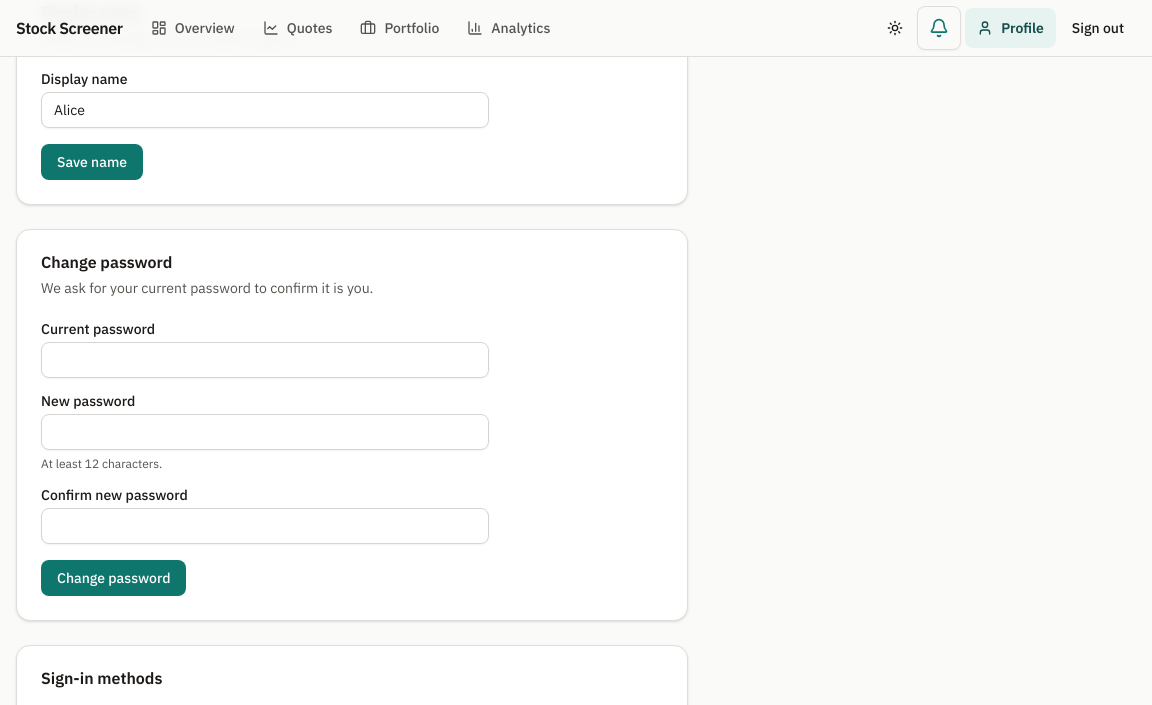
Test case: Security: password branch › shows the error when the current password is wrong
(page scrolled)
expect the password field labelled "New password" is shown: met, box top-left (41, 414), bottom-right (489, 450)
Type "wrong" into the password field labelled "Current password" at (265, 360), box top-left (41, 342), bottom-right (489, 378)
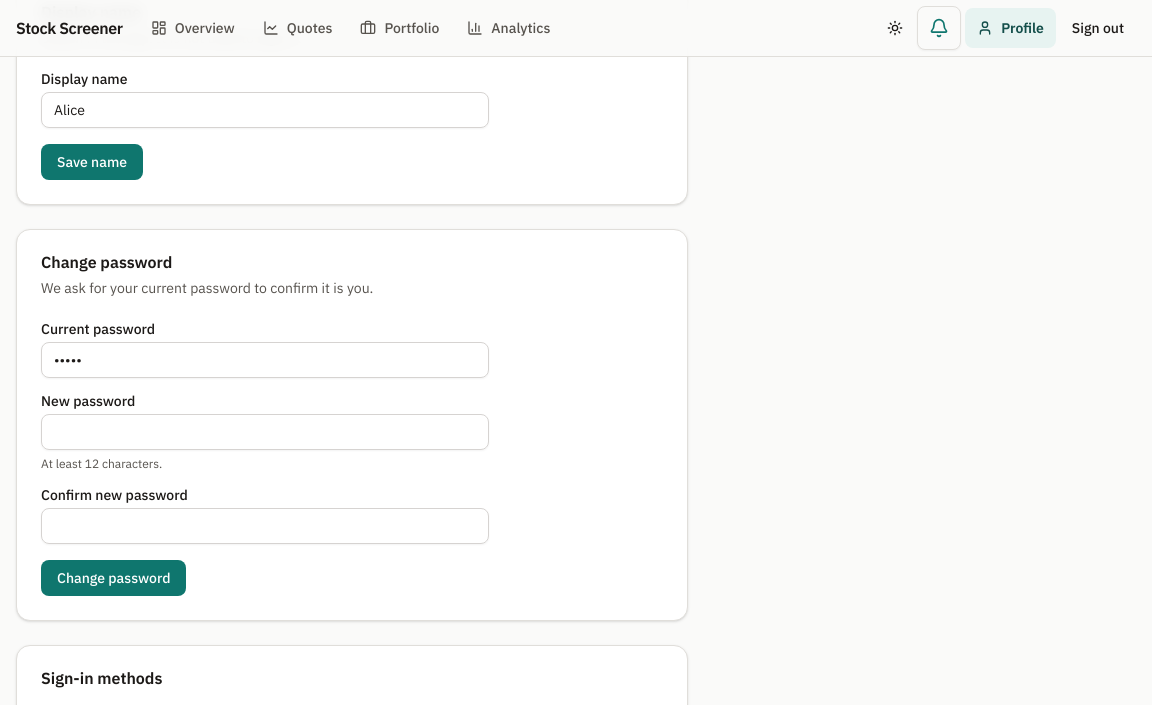
Type "New-Passw0rd-2" into the password field labelled "New password" at (265, 432), box top-left (41, 414), bottom-right (489, 450)
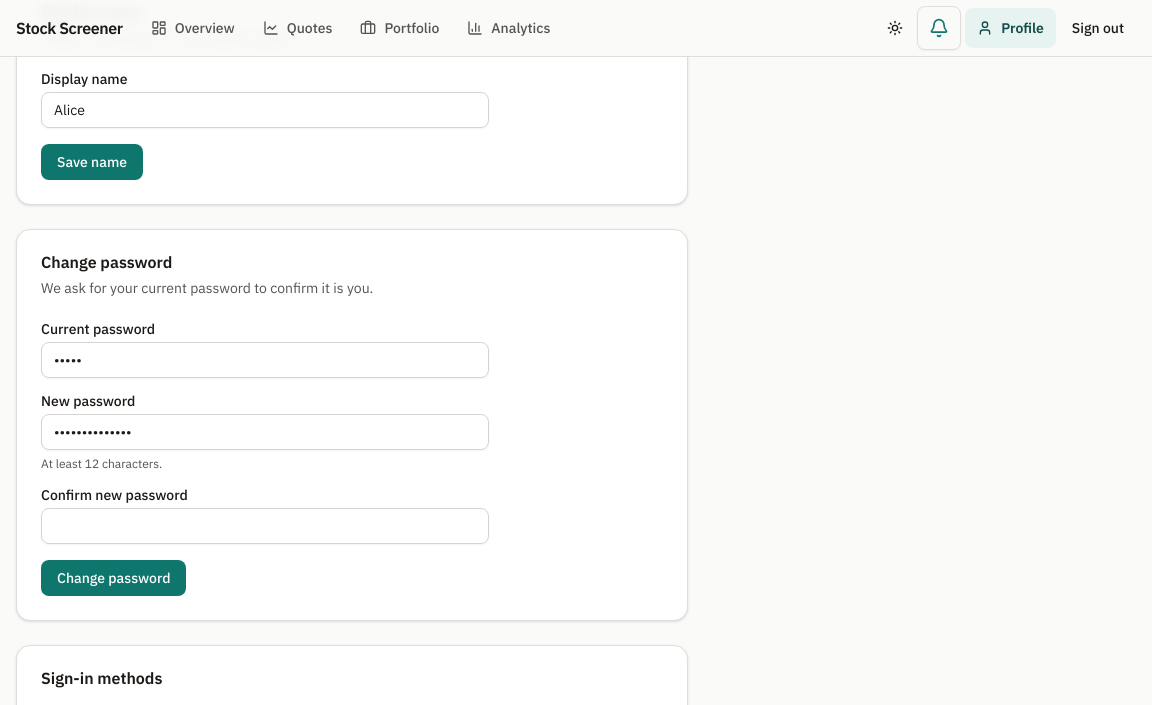
Type "New-Passw0rd-2" into the password field labelled "Confirm new password" at (265, 526), box top-left (41, 508), bottom-right (489, 544)
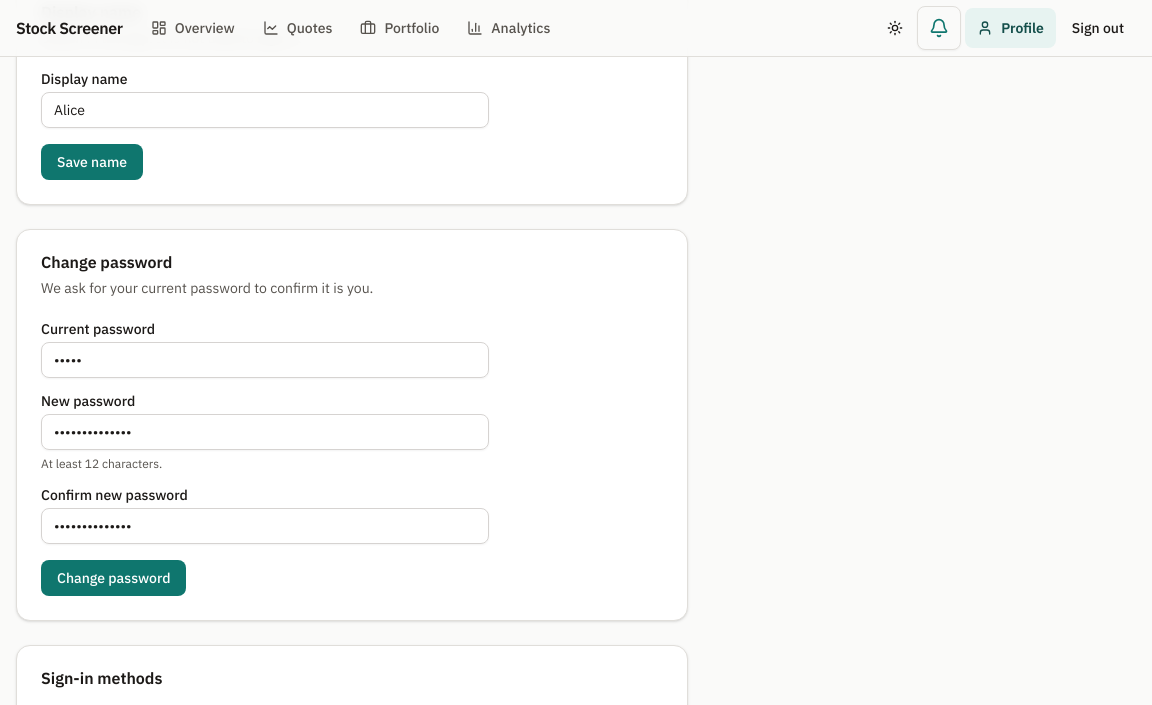
Submit the form named "Change password", box top-left (41, 322), bottom-right (489, 596)
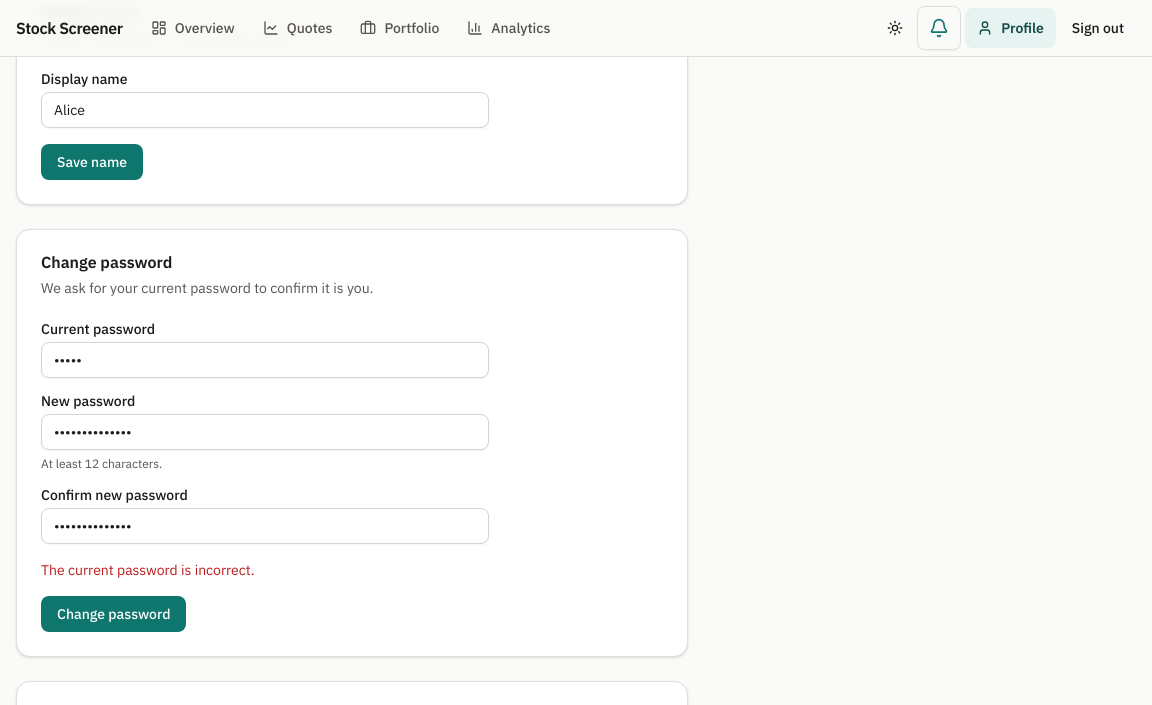
expect the text "The current password is incorrect." is shown: met, box top-left (41, 561), bottom-right (255, 579)
